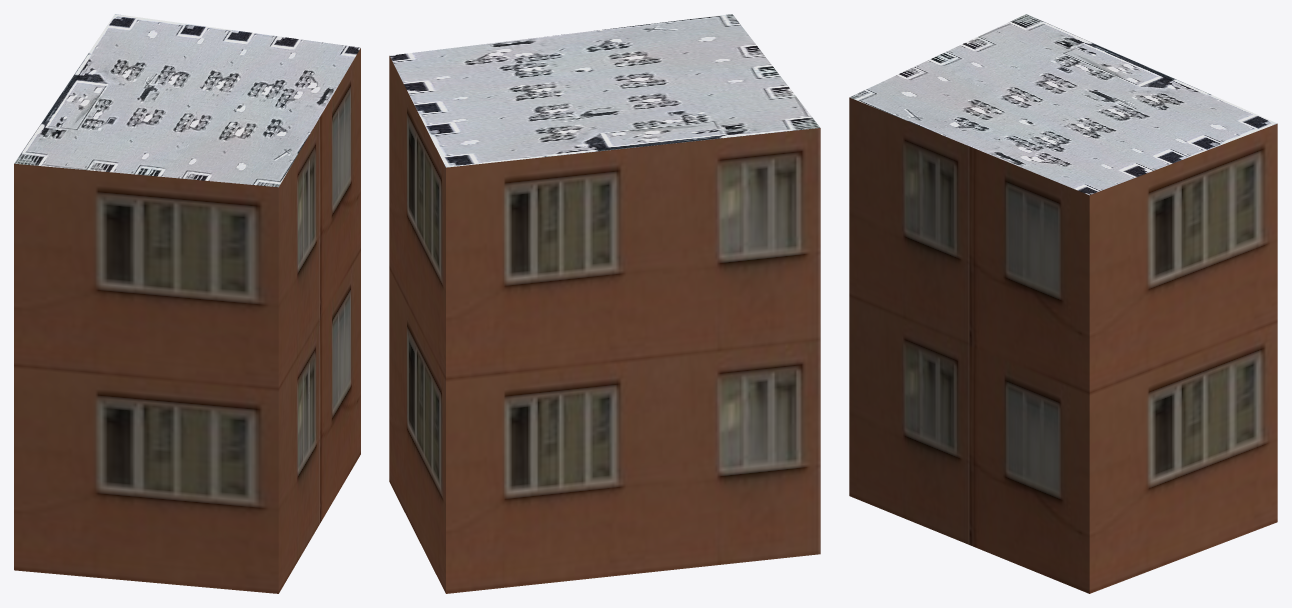
The model's file is ResTex__4148.fbx.
The picture shows the model from 3 angles, left to right: view 1: azimuth 30°, elevation 25°; view 2: azimuth 150°, elevation 25°; view 3: azimuth 270°, elevation 25°; orthographic projection. The views are drawn at different scales.
Visible parts, largest first — view 1: CityEngineMaterial_20_m, CityEngineMaterial_4_m; view 2: CityEngineMaterial_20_m, CityEngineMaterial_4_m; view 3: CityEngineMaterial_20_m, CityEngineMaterial_4_m.
Boxes of the visible parts, bbox=[...] form: CityEngineMaterial_20_m: bbox=[14, 48, 360, 593]; CityEngineMaterial_4_m: bbox=[14, 14, 360, 187]; CityEngineMaterial_20_m: bbox=[389, 56, 820, 593]; CityEngineMaterial_4_m: bbox=[390, 14, 820, 167]; CityEngineMaterial_20_m: bbox=[849, 97, 1277, 593]; CityEngineMaterial_4_m: bbox=[850, 14, 1276, 195].
Bounding box in the file's own units: 5.85 × 6 × 5.84.
2 materials, 2 textured.
